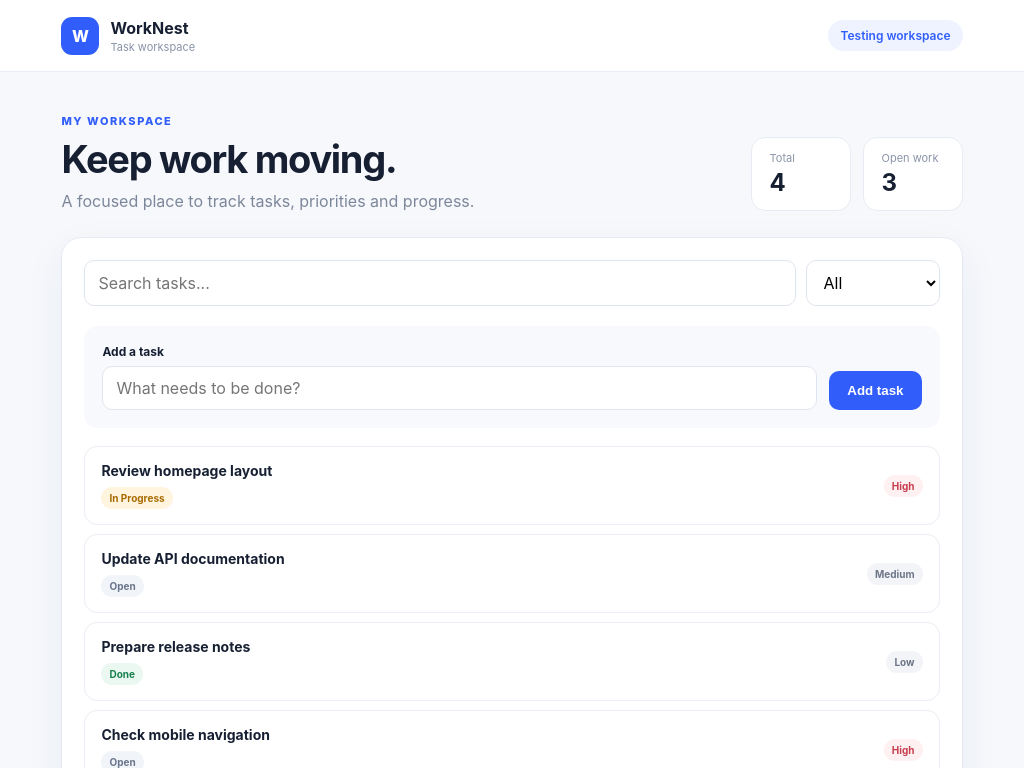
Test: WorkNest › filters tasks by status
The width and height of the screenshot is (1024, 768).
Select "Done" in the dropdown named "Filter by status" at (872, 283), box [806, 260, 940, 306]
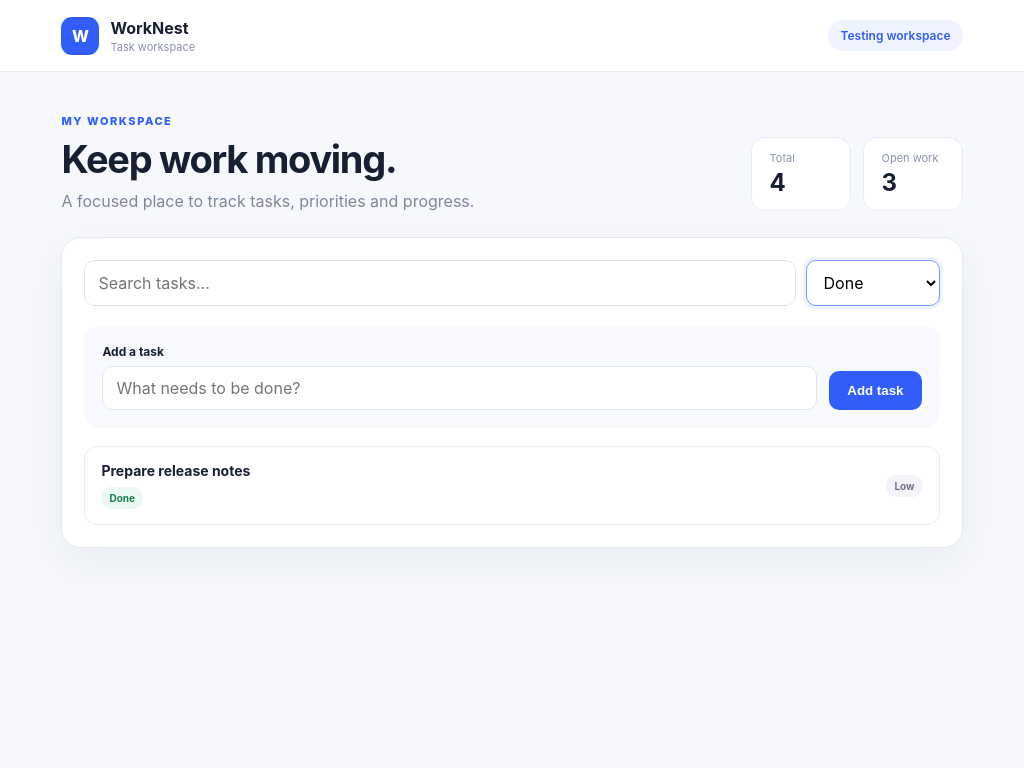
expect the heading "Prepare release notes" is shown: met, box [101, 462, 250, 479]
expect the heading "Review homepage layout" is gone: met
